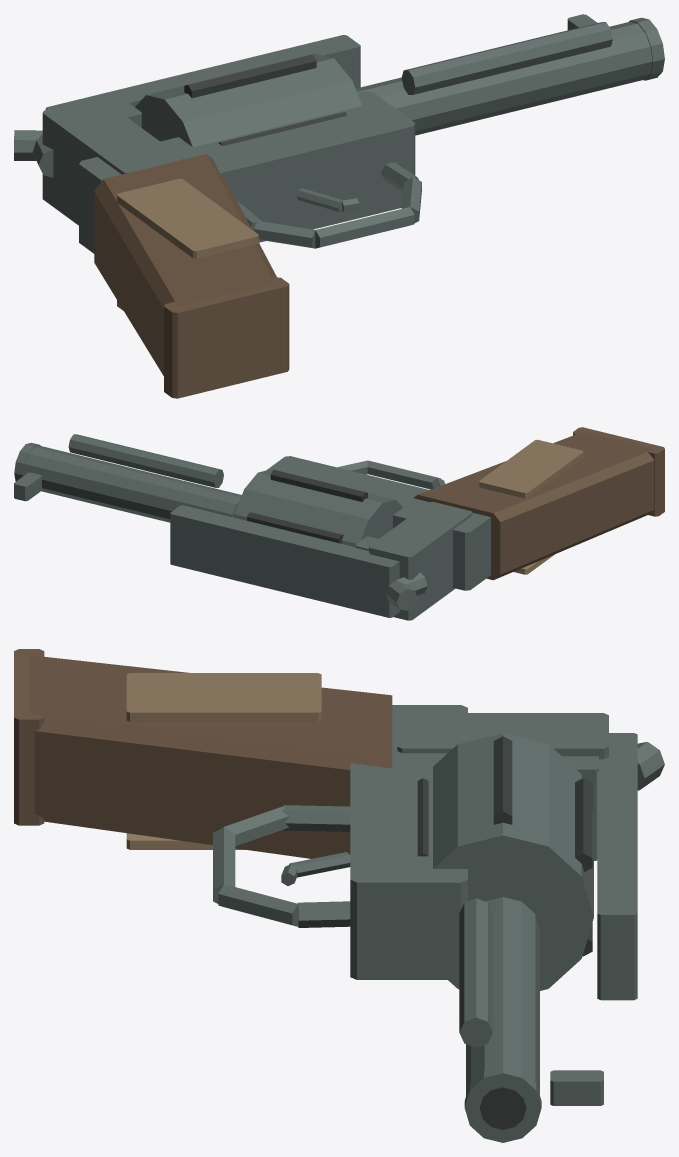
Rendered from weapon-colt-saa.glb.
The picture shows the model from 3 angles, top to bottom: view 1: azimuth 30°, elevation 25°; view 2: azimuth 150°, elevation 25°; view 3: azimuth 270°, elevation 25°; orthographic projection. The views are drawn at different scales.
Parts seen in each view (by area): view 1: weapon-colt-saa/lower-frame, weapon-colt-saa/eight-sided-wood-grip, weapon-colt-saa/eight-sided-wood-grip-heel, weapon-colt-saa/barrel, weapon-colt-saa/fluted-cylinder, weapon-colt-saa/frame-rear, weapon-colt-saa/grip-plaque-left, weapon-colt-saa/offset-side-housing, weapon-colt-saa/continuous-top-strap, weapon-colt-saa/cylinder-long-flute-3, weapon-colt-saa/hollow-trigger-guard-4, weapon-colt-saa/hollow-trigger-guard-5 (+7 smaller); view 2: weapon-colt-saa/eight-sided-wood-grip, weapon-colt-saa/continuous-top-strap, weapon-colt-saa/barrel, weapon-colt-saa/fluted-cylinder, weapon-colt-saa/frame-rear, weapon-colt-saa/lower-frame, weapon-colt-saa/grip-plaque-left, weapon-colt-saa/offset-side-housing, weapon-colt-saa/eight-sided-wood-grip-heel, weapon-colt-saa/cylinder-long-flute-3, weapon-colt-saa/cylinder-long-flute-2, weapon-colt-saa/hollow-trigger-guard-4 (+4 smaller); view 3: weapon-colt-saa/eight-sided-wood-grip, weapon-colt-saa/fluted-cylinder, weapon-colt-saa/lower-frame, weapon-colt-saa/continuous-top-strap, weapon-colt-saa/grip-plaque-left, weapon-colt-saa/barrel, weapon-colt-saa/frame-rear, weapon-colt-saa/offset-side-housing, weapon-colt-saa/eight-sided-wood-grip-heel, weapon-colt-saa/barrel-end-rim, weapon-colt-saa/front-sight, weapon-colt-saa/hollow-trigger-guard-3 (+12 smaller).
Boxes of the visible parts, x1=… form: weapon-colt-saa/lower-frame: x1=79, y1=91, x2=415, y2=253; weapon-colt-saa/eight-sided-wood-grip: x1=94, y1=154, x2=276, y2=375; weapon-colt-saa/eight-sided-wood-grip-heel: x1=164, y1=277, x2=289, y2=398; weapon-colt-saa/barrel: x1=356, y1=21, x2=652, y2=135; weapon-colt-saa/fluted-cylinder: x1=135, y1=53, x2=362, y2=147; weapon-colt-saa/frame-rear: x1=42, y1=98, x2=182, y2=225; weapon-colt-saa/grip-plaque-left: x1=117, y1=178, x2=258, y2=258; weapon-colt-saa/offset-side-housing: x1=401, y1=22, x2=612, y2=94; weapon-colt-saa/continuous-top-strap: x1=45, y1=35, x2=360, y2=109; weapon-colt-saa/cylinder-long-flute-3: x1=184, y1=54, x2=316, y2=98; weapon-colt-saa/hollow-trigger-guard-4: x1=315, y1=207, x2=414, y2=248; weapon-colt-saa/hollow-trigger-guard-5: x1=254, y1=221, x2=315, y2=248; weapon-colt-saa/eight-sided-wood-grip: x1=413, y1=431, x2=654, y2=580; weapon-colt-saa/continuous-top-strap: x1=170, y1=505, x2=399, y2=617; weapon-colt-saa/barrel: x1=23, y1=445, x2=241, y2=522; weapon-colt-saa/fluted-cylinder: x1=234, y1=469, x2=403, y2=546; weapon-colt-saa/frame-rear: x1=369, y1=502, x2=472, y2=620; weapon-colt-saa/lower-frame: x1=266, y1=456, x2=490, y2=590; weapon-colt-saa/grip-plaque-left: x1=479, y1=439, x2=583, y2=498; weapon-colt-saa/offset-side-housing: x1=68, y1=434, x2=223, y2=487; weapon-colt-saa/eight-sided-wood-grip-heel: x1=573, y1=427, x2=664, y2=516; weapon-colt-saa/cylinder-long-flute-3: x1=270, y1=469, x2=367, y2=501; weapon-colt-saa/cylinder-long-flute-2: x1=247, y1=512, x2=343, y2=543; weapon-colt-saa/hollow-trigger-guard-4: x1=367, y1=460, x2=440, y2=489; weapon-colt-saa/eight-sided-wood-grip: x1=29, y1=655, x2=392, y2=858; weapon-colt-saa/fluted-cylinder: x1=433, y1=733, x2=593, y2=990; weapon-colt-saa/lower-frame: x1=350, y1=705, x2=467, y2=979; weapon-colt-saa/continuous-top-strap: x1=597, y1=733, x2=637, y2=1000; weapon-colt-saa/grip-plaque-left: x1=126, y1=673, x2=321, y2=721; weapon-colt-saa/barrel: x1=466, y1=897, x2=539, y2=1095; weapon-colt-saa/frame-rear: x1=397, y1=713, x2=608, y2=759; weapon-colt-saa/offset-side-housing: x1=459, y1=898, x2=492, y2=1047; weapon-colt-saa/eight-sided-wood-grip-heel: x1=14, y1=649, x2=44, y2=825; weapon-colt-saa/barrel-end-rim: x1=464, y1=1066, x2=541, y2=1142; weapon-colt-saa/front-sight: x1=550, y1=1070, x2=603, y2=1105; weapon-colt-saa/hollow-trigger-guard-3: x1=218, y1=884, x2=299, y2=926.
Size of the model in its own units: 0.2864 by 0.0614 by 0.1936.
4 materials, 4 textured.
